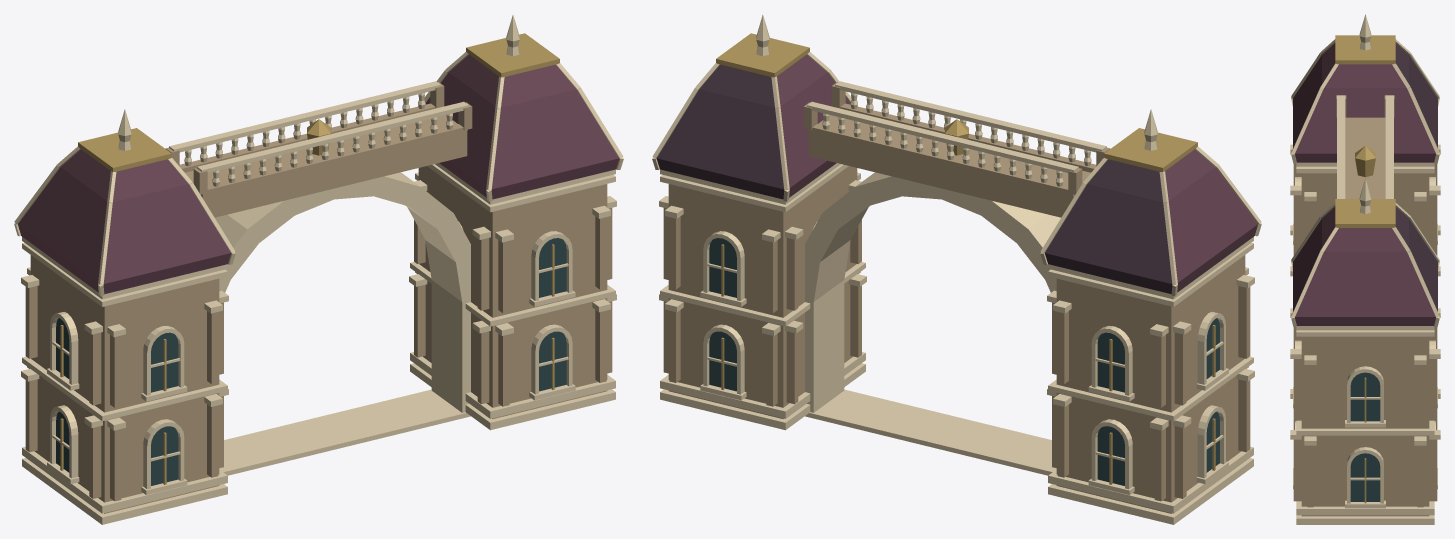
The model's file is Royal_Gatehouse.fbx.
3 renders of one model, left to right at view 1: azimuth 30°, elevation 25°; view 2: azimuth 150°, elevation 25°; view 3: azimuth 270°, elevation 25°, orthographic. The views are drawn at different scales.
Parts seen in each view (by area): view 1: Royal_Gatehouse; view 2: Royal_Gatehouse; view 3: Royal_Gatehouse.
Part boxes in pixels (left/top/right/bottom): Royal_Gatehouse: left=14, top=14, right=623, bottom=524; Royal_Gatehouse: left=652, top=14, right=1261, bottom=524; Royal_Gatehouse: left=1290, top=14, right=1440, bottom=524.
Bounding box in the file's own units: 23.83 × 16.3 × 6.83.
